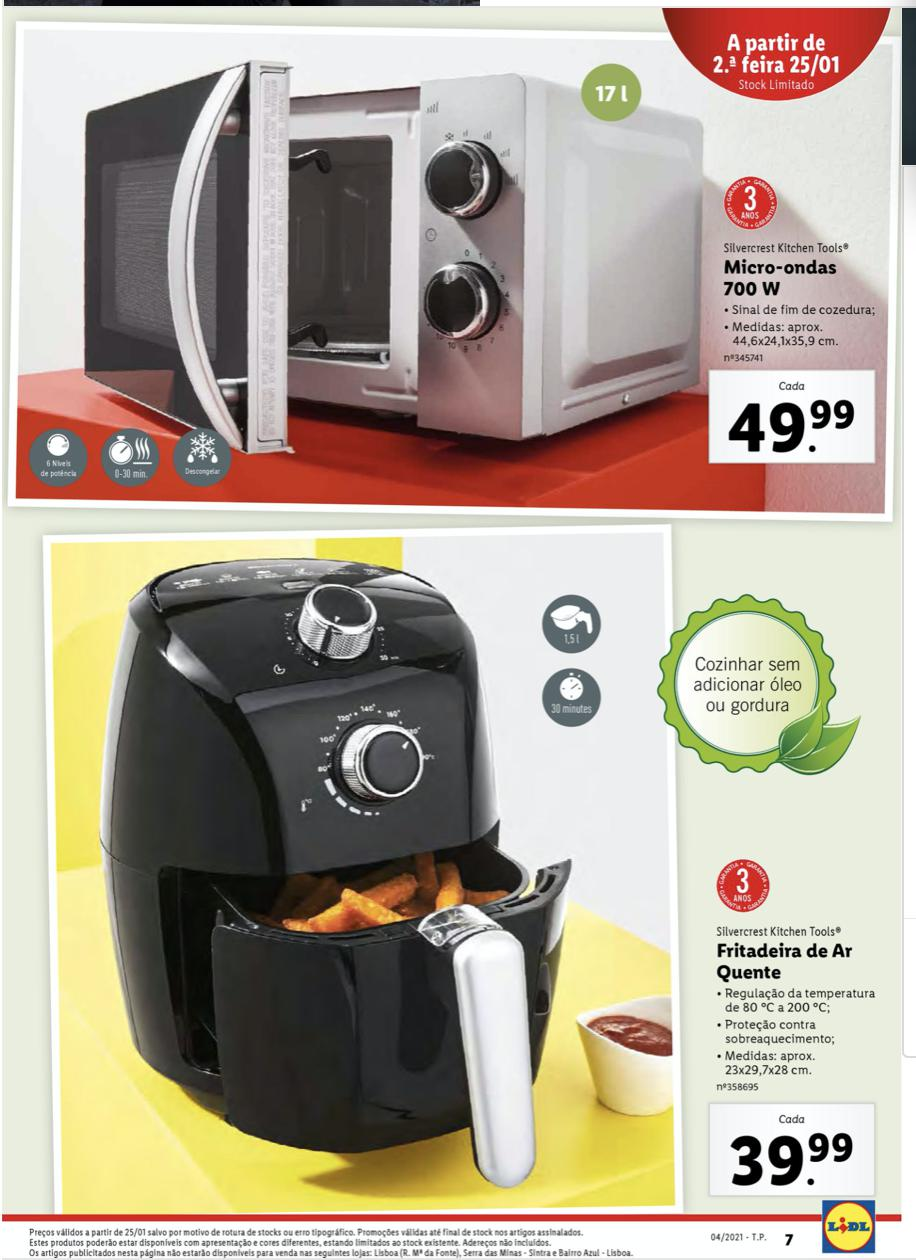name: (709, 938, 861, 985), (718, 257, 840, 302)
price: (723, 1126, 858, 1191), (722, 398, 858, 459)
product: (53, 515, 890, 1213), (48, 45, 873, 506)
